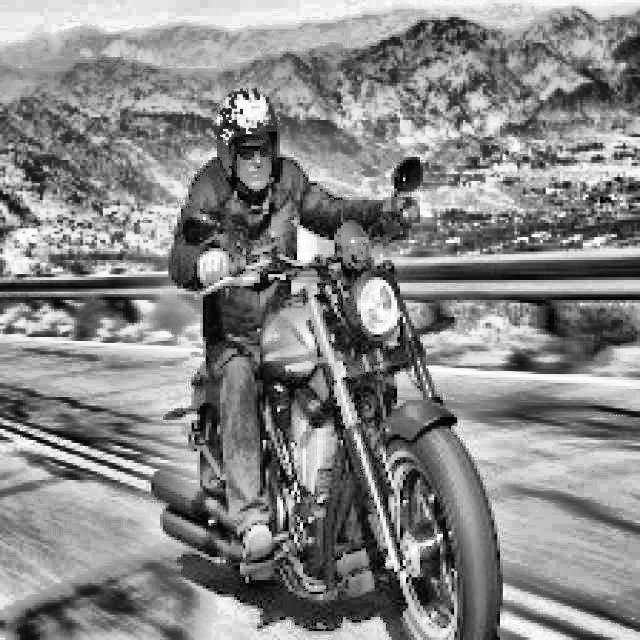motorcycle: (144, 149, 514, 640)
